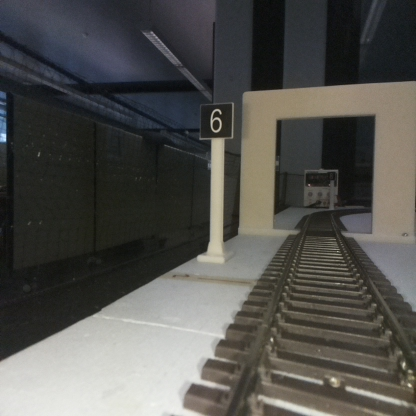black-info-6: (201, 103, 232, 262)
